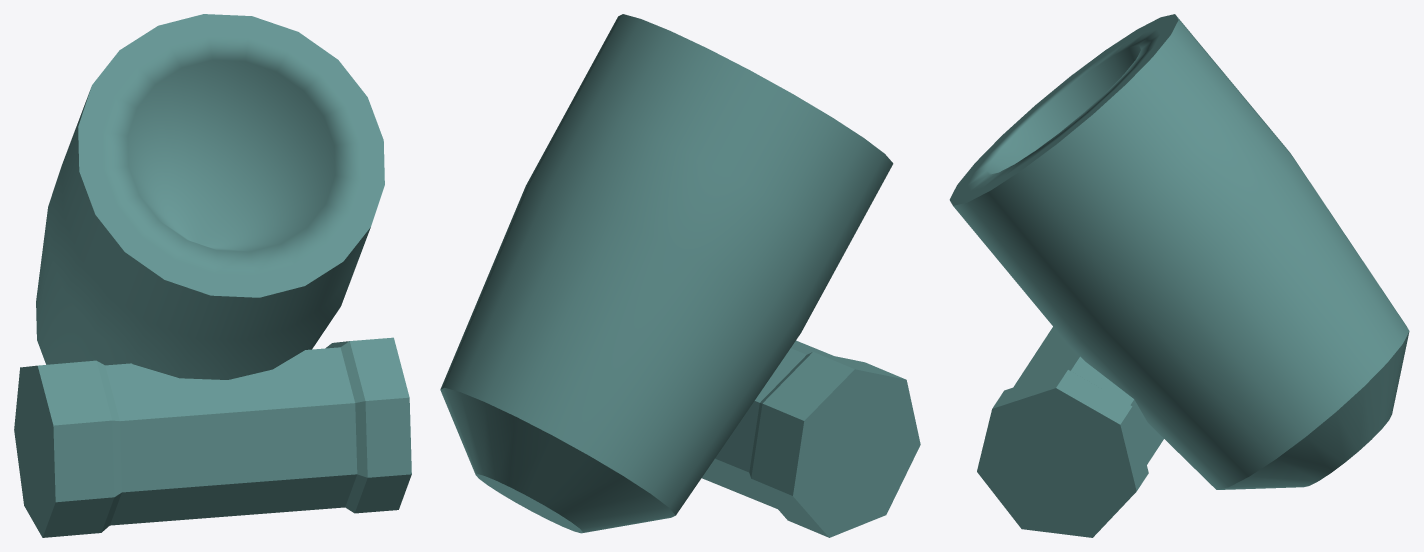
File: canon.fbx
The picture shows the model from 3 angles, left to right: view 1: azimuth 30°, elevation 25°; view 2: azimuth 150°, elevation 25°; view 3: azimuth 270°, elevation 25°; orthographic projection. The views are drawn at different scales.
Visible parts, largest first — view 1: polySurface54; view 2: polySurface54; view 3: polySurface54.
Part boxes in pixels (x1,y1,x2,y2): polySurface54: (14, 14, 411, 537); polySurface54: (440, 14, 920, 537); polySurface54: (949, 14, 1409, 537).
Size of the model in its own units: 7.69 by 9.78 by 9.25.
